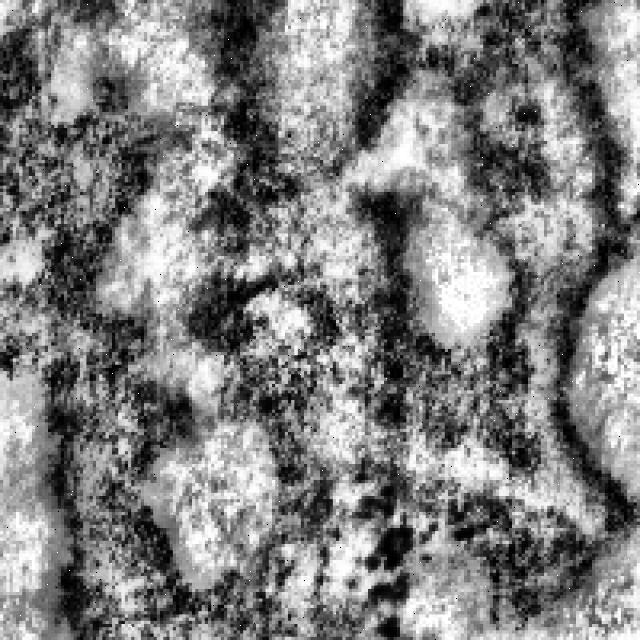Patches: (346, 474, 468, 598)
Scratches: (192, 0, 637, 608), (0, 0, 186, 637)
